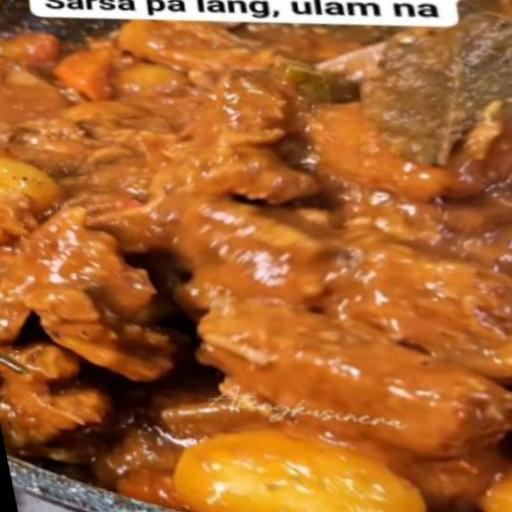pork caldereta: (0, 38, 511, 511)
